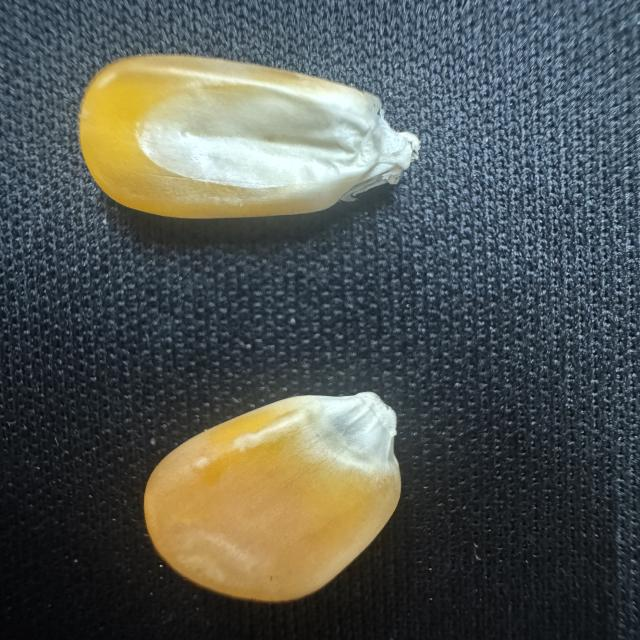Good-Seed: (70, 46, 426, 228), (136, 380, 414, 612)
